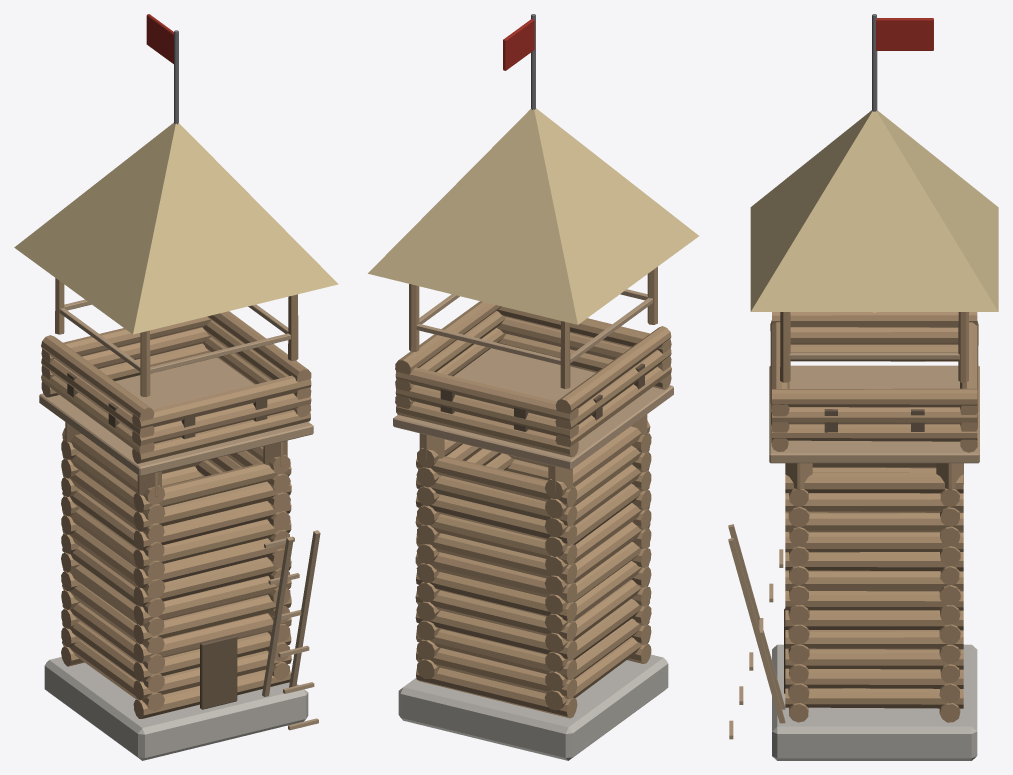
The model's file is bld_tower.glb.
The picture shows the model from 3 angles, left to right: view 1: azimuth 30°, elevation 25°; view 2: azimuth 150°, elevation 25°; view 3: azimuth 270°, elevation 25°; orthographic projection. The views are drawn at different scales.
Visible parts, largest first — view 1: tower; view 2: tower; view 3: tower.
Boxes of the visible parts, box(x1,y1,x2,y2) form: tower: box(14, 14, 338, 760); tower: box(368, 14, 698, 760); tower: box(728, 14, 998, 760).
Size of the model in its own units: 0.918 by 2.88 by 1.
